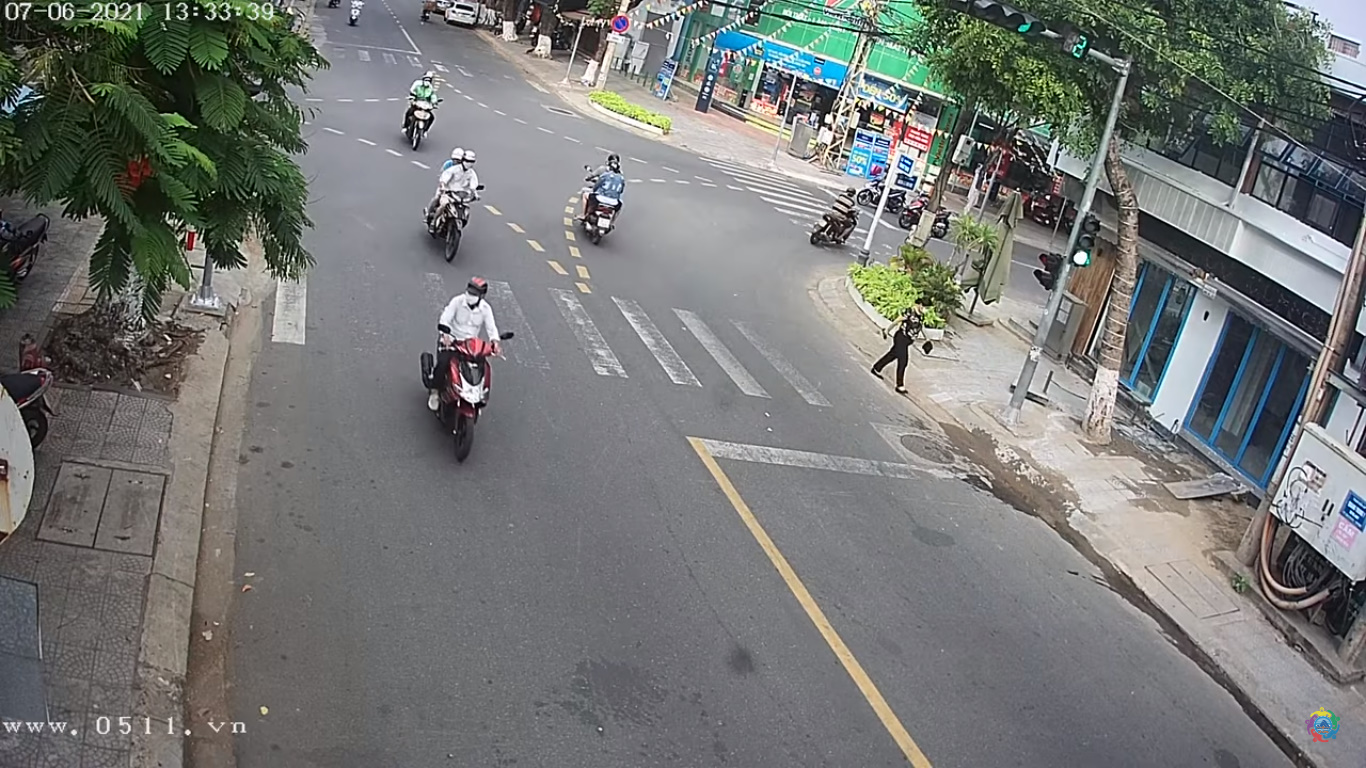motorbike: (420, 285, 503, 453), (424, 165, 483, 256), (402, 84, 439, 142)
